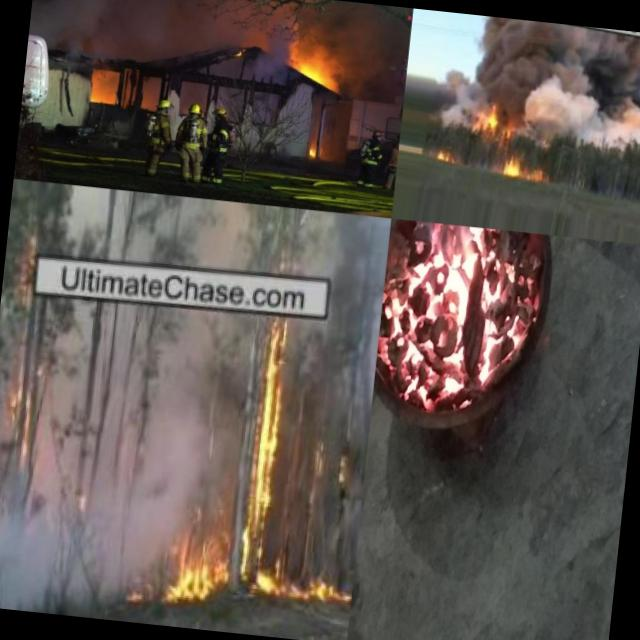fire: (368, 218, 540, 457), (226, 328, 296, 584), (136, 528, 229, 606), (272, 560, 351, 614), (288, 52, 345, 93), (490, 151, 544, 183), (470, 100, 500, 136), (428, 146, 458, 166), (307, 142, 321, 162)
smoke: (130, 308, 254, 536), (0, 450, 161, 601), (47, 0, 254, 83), (513, 52, 640, 154), (246, 19, 294, 87)
